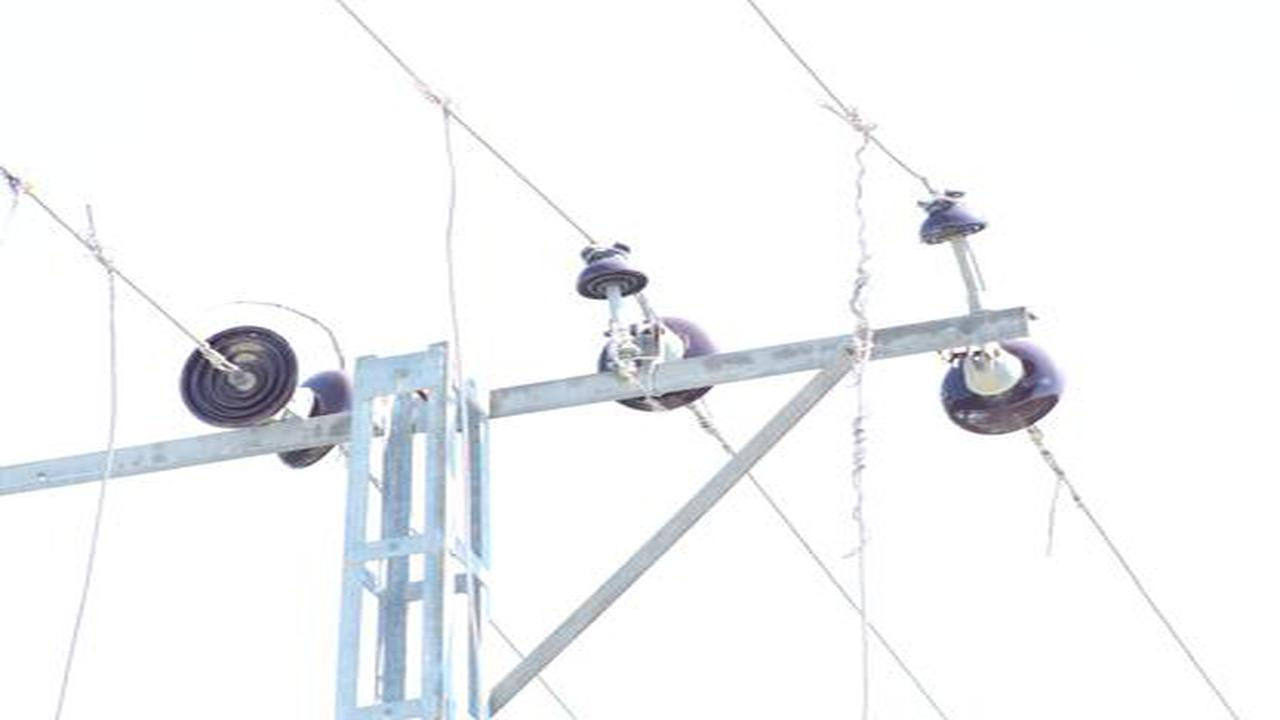insulator_disc: (176, 323, 301, 428), (938, 339, 1065, 437)
insulator_pin: (568, 235, 653, 299), (911, 187, 991, 250)
